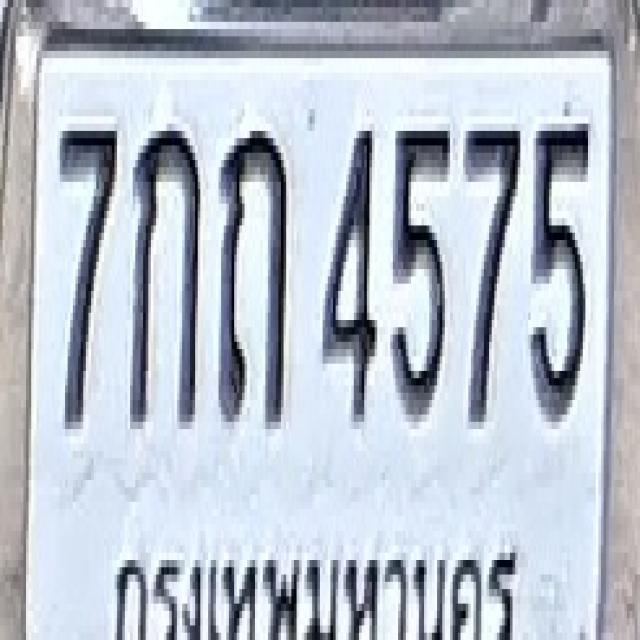-: (127, 124, 200, 429), (218, 120, 288, 425)
4: (320, 124, 377, 422)
5: (530, 116, 590, 422), (390, 124, 450, 422)
7: (57, 124, 117, 429), (463, 120, 520, 425)
